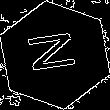N_E: (25, 31, 85, 79)
